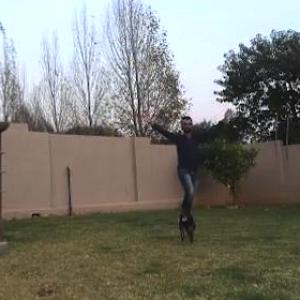takeoff: (121, 108, 217, 227)
